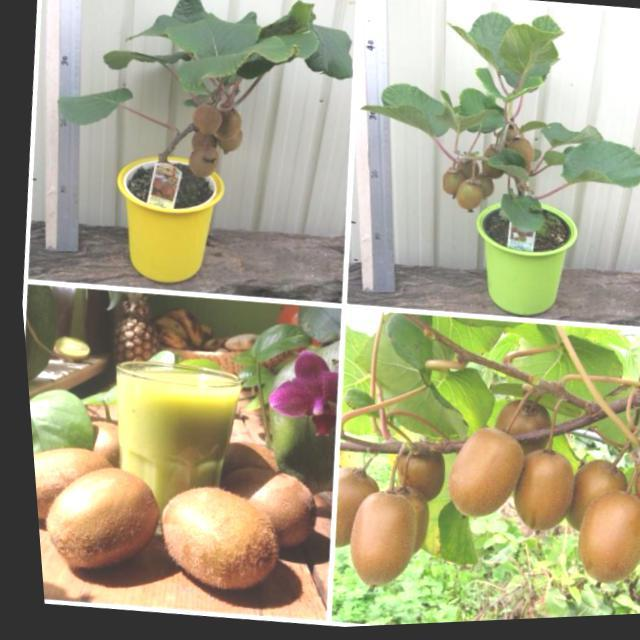kiwi: (142, 480, 280, 599), (29, 459, 161, 582), (197, 462, 314, 563), (433, 426, 522, 529), (332, 490, 416, 595), (562, 488, 640, 594), (27, 441, 115, 533), (500, 452, 575, 538), (554, 463, 625, 546), (322, 467, 379, 554), (482, 401, 549, 474), (382, 446, 443, 510), (185, 145, 218, 184), (450, 179, 483, 217), (474, 148, 507, 186), (188, 104, 222, 139), (210, 109, 241, 144), (501, 141, 532, 174), (213, 123, 241, 156), (623, 466, 640, 516), (187, 131, 218, 158), (465, 177, 493, 204), (452, 160, 478, 188), (437, 171, 461, 201)
